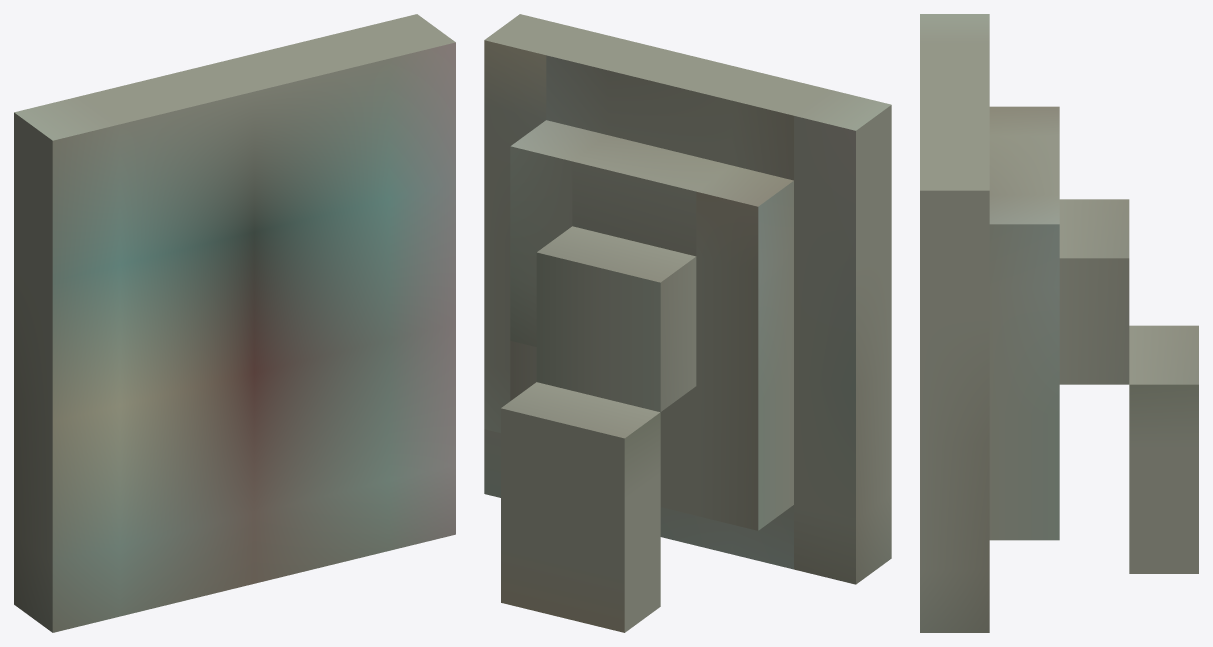
Rendered from PaintingFramedSmall_C_01.fbx.
3 views of the same model, side by side, from view 1: azimuth 30°, elevation 25°; view 2: azimuth 150°, elevation 25°; view 3: azimuth 270°, elevation 25° (orthographic). The views are drawn at different scales.
Parts seen in each view (by area): view 1: PaintingFramedSmall_C_01; view 2: PaintingFramedSmall_C_01; view 3: PaintingFramedSmall_C_01.
Part boxes in pixels (left/top/right/bottom): PaintingFramedSmall_C_01: left=14, top=14, right=455, bottom=632; PaintingFramedSmall_C_01: left=484, top=14, right=891, bottom=632; PaintingFramedSmall_C_01: left=920, top=14, right=1198, bottom=632.
Bounding box in the file's own units: 30 × 20 × 35.
Materials: 1 (1 with a texture image).
